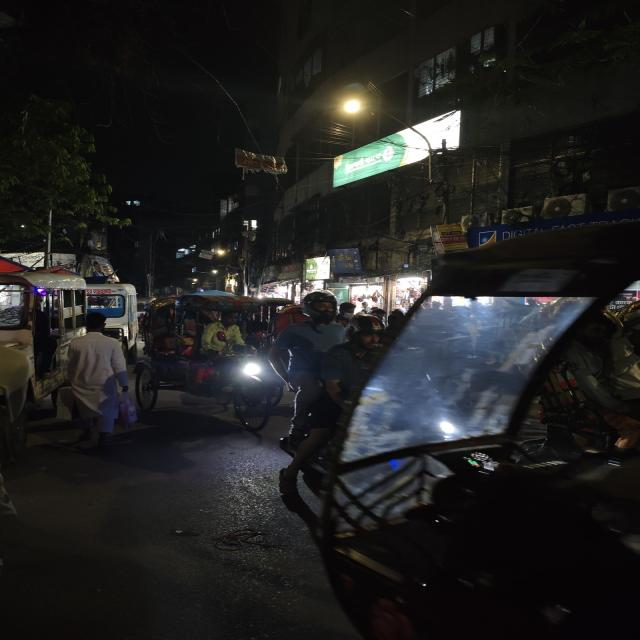human_hauler: (3, 270, 87, 416), (82, 274, 134, 324)
pedestrian: (270, 299, 366, 455), (51, 313, 134, 450)
rickshaw: (138, 290, 289, 432)
